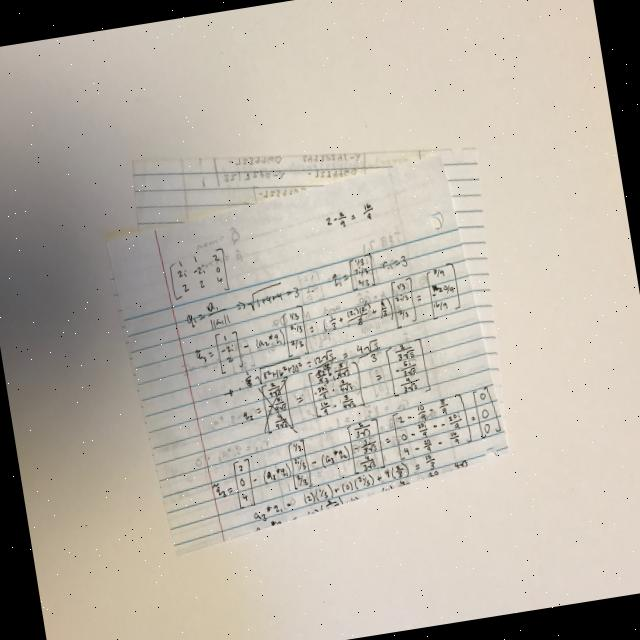paper: (92, 107, 532, 559)
